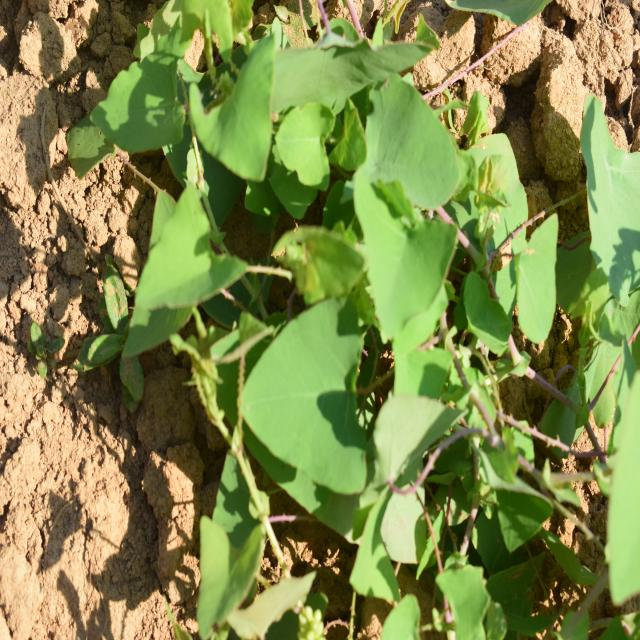Asiatic_Smartweed: (278, 58, 496, 535), (61, 15, 305, 337)
